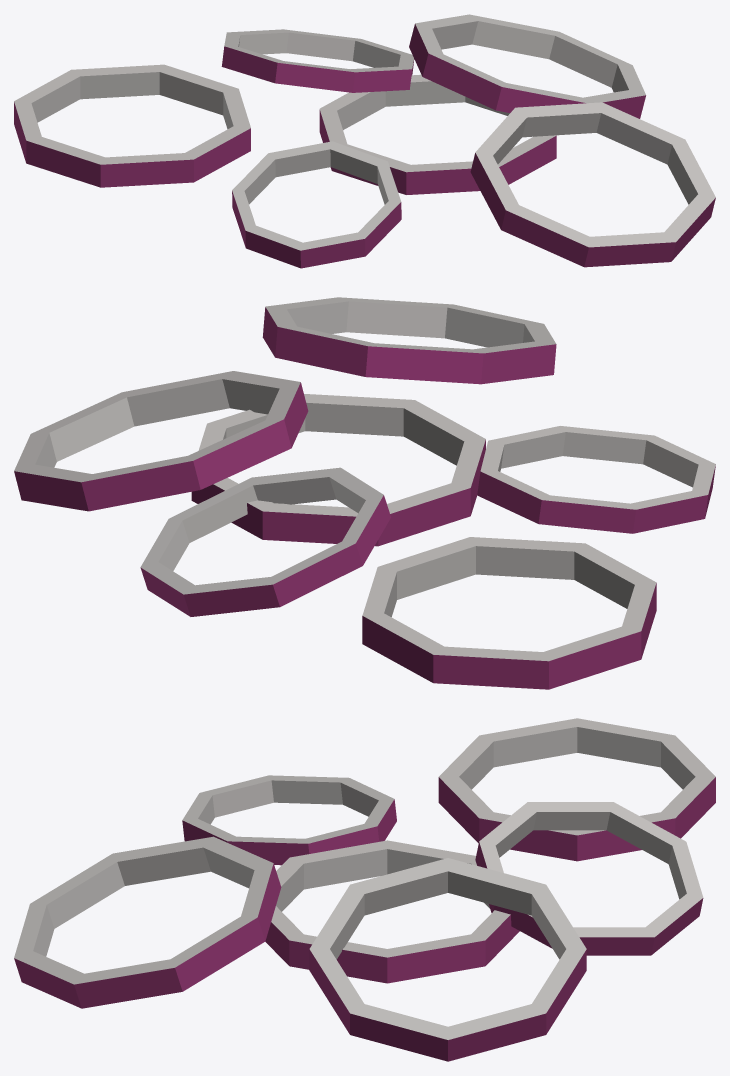
File: SM_Props_Interior_SuperMarket_Item_Food_Onion.fbx
3 renders of one model, top to bottom at view 1: azimuth 30°, elevation 25°; view 2: azimuth 150°, elevation 25°; view 3: azimuth 270°, elevation 25°, orthographic. The views are drawn at different scales.
Parts seen in each view (by area): view 1: SM_Props_Interior_SuperMarket_Item_Food_Onion; view 2: SM_Props_Interior_SuperMarket_Item_Food_Onion; view 3: SM_Props_Interior_SuperMarket_Item_Food_Onion.
Part boxes in pixels (x1,y1,x2,y2): SM_Props_Interior_SuperMarket_Item_Food_Onion: (14, 14, 715, 268); SM_Props_Interior_SuperMarket_Item_Food_Onion: (14, 297, 715, 689); SM_Props_Interior_SuperMarket_Item_Food_Onion: (14, 718, 715, 1061).
Size of the model in its own units: 16.57 by 2.41 by 16.23.
